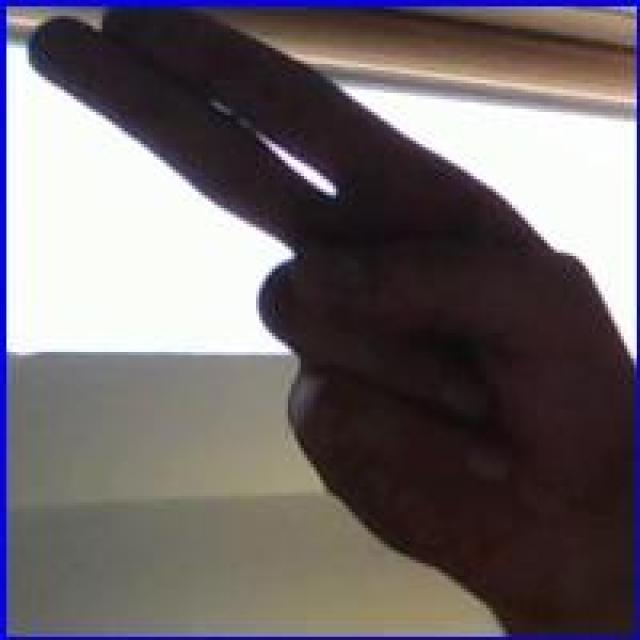H: (27, 4, 626, 610)
